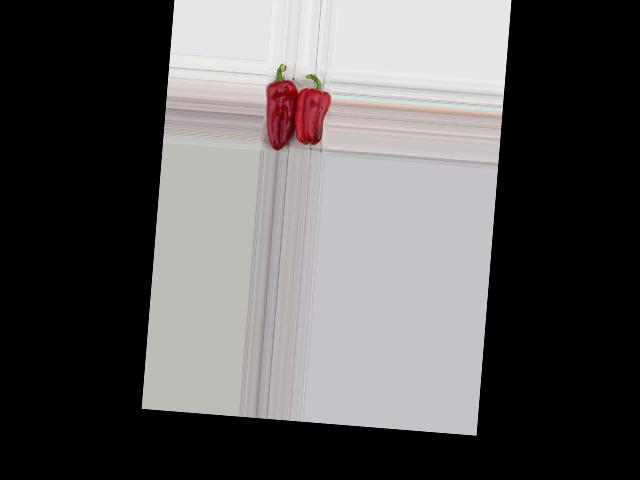bell_pepper: (261, 60, 301, 151)
